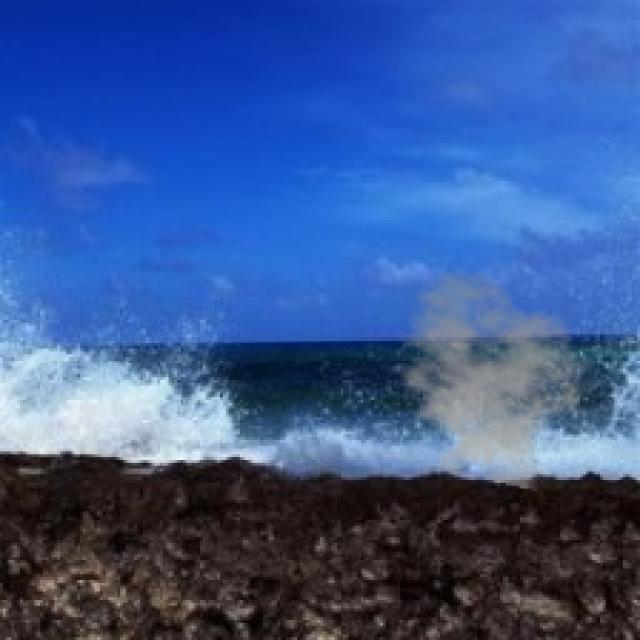Smoke: (380, 268, 594, 492)
